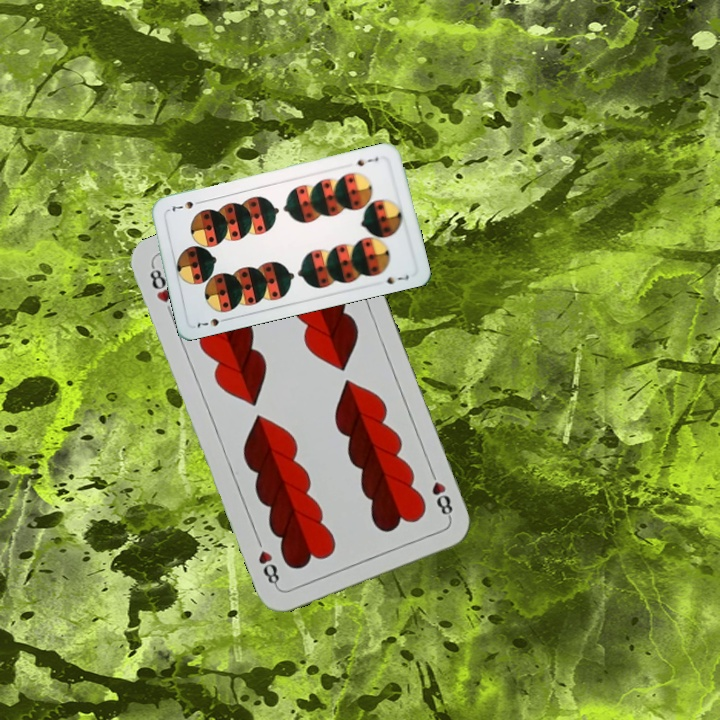H8: (425, 465, 456, 522), (145, 262, 174, 306)
S7: (191, 314, 232, 330), (350, 153, 381, 169)
